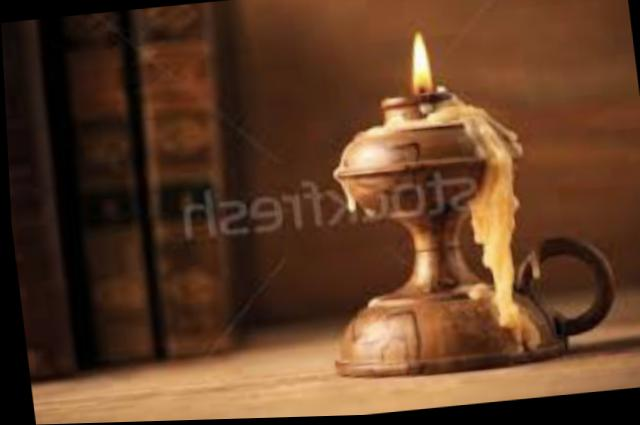fire: (391, 24, 451, 94)
